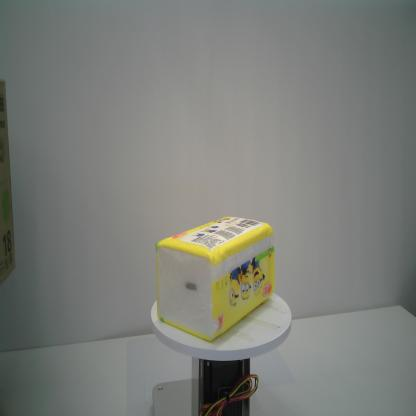Tissue: (154, 214, 277, 343)
